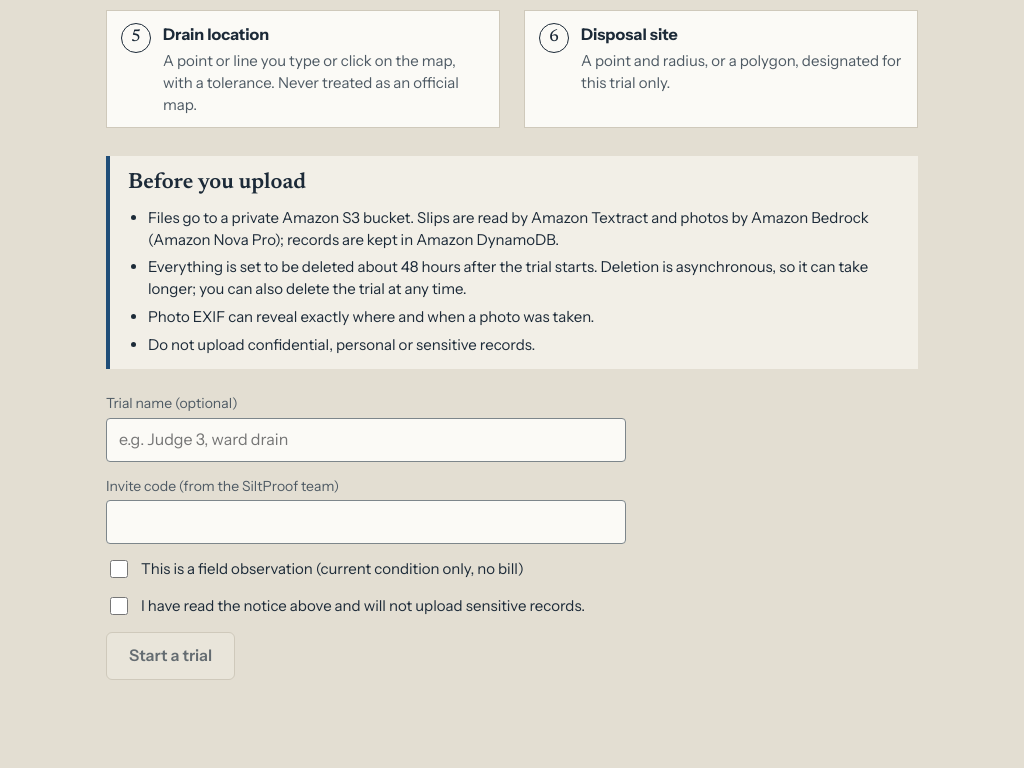
judge trial › shows a creation error from the server
The width and height of the screenshot is (1024, 768).
(page scrolled)
Click the checkbox labelled "will not upload sensitive records" at [119, 606], box [110, 597, 128, 615]
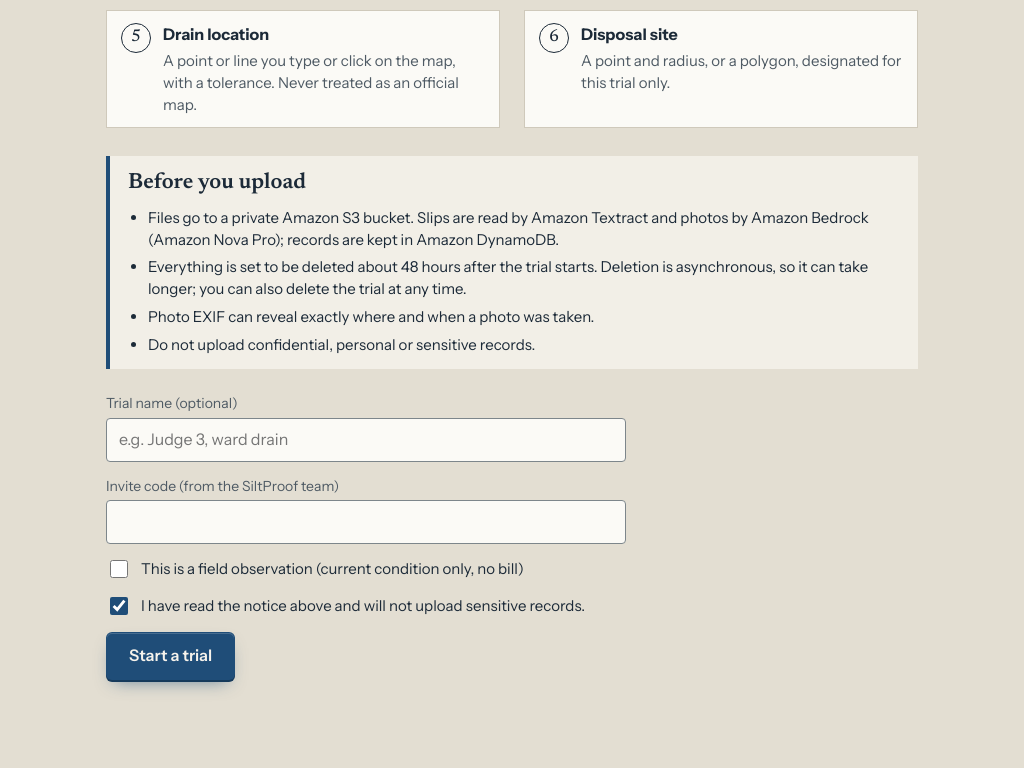
Click the button "Start a trial" at [171, 656], box [106, 632, 235, 680]
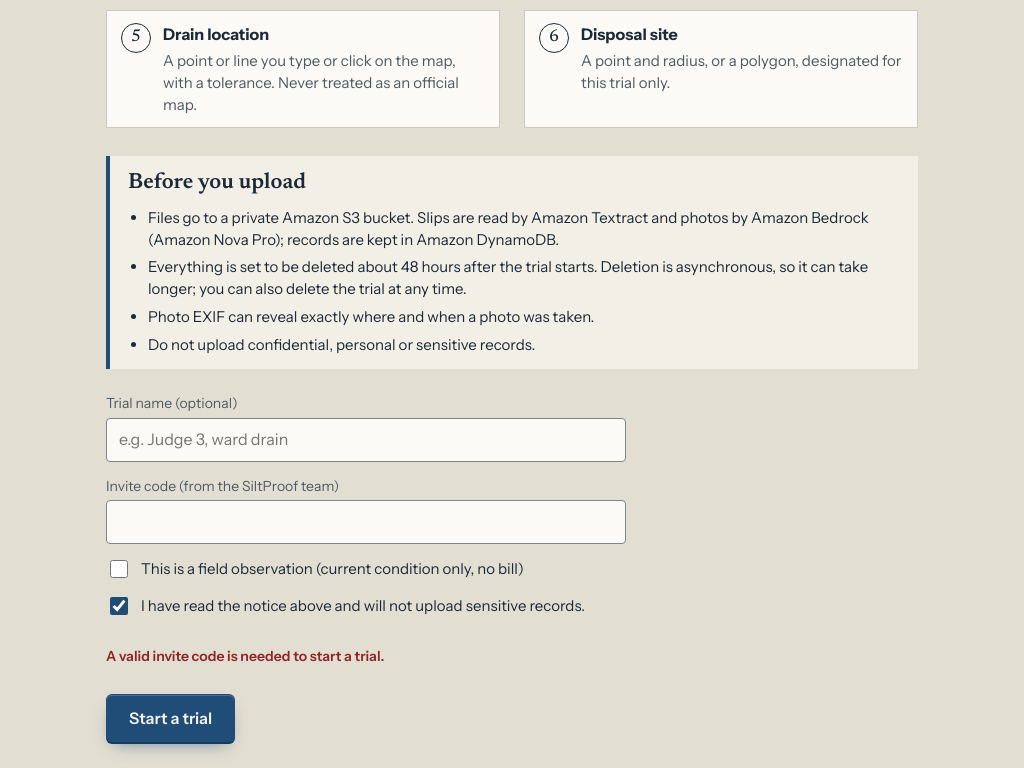
Result: the text "A valid invite code is needed to start a trial." is shown at [106, 647, 384, 665]
